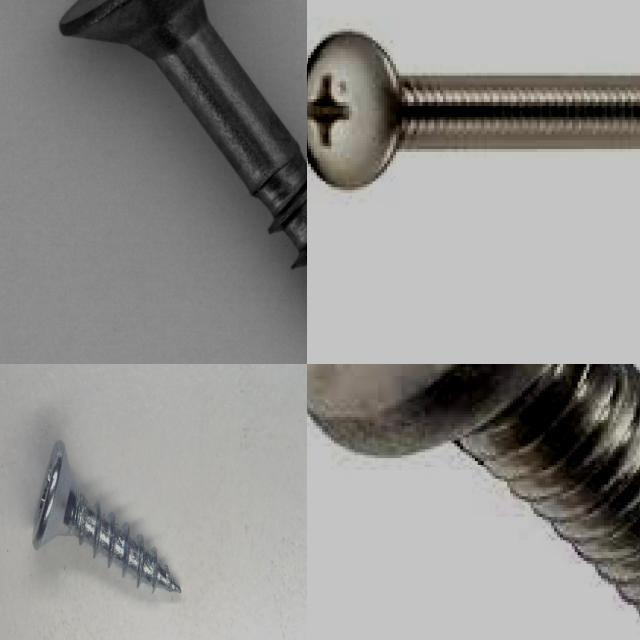Screw: (26, 0, 307, 364), (307, 364, 640, 620), (307, 32, 640, 193), (32, 440, 179, 591)
